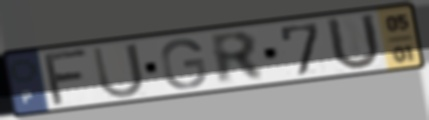7: (277, 20, 322, 77)
F: (43, 47, 93, 109)
G: (158, 37, 209, 91)
R: (206, 29, 269, 88)
U: (323, 12, 384, 73), (89, 41, 147, 101)
